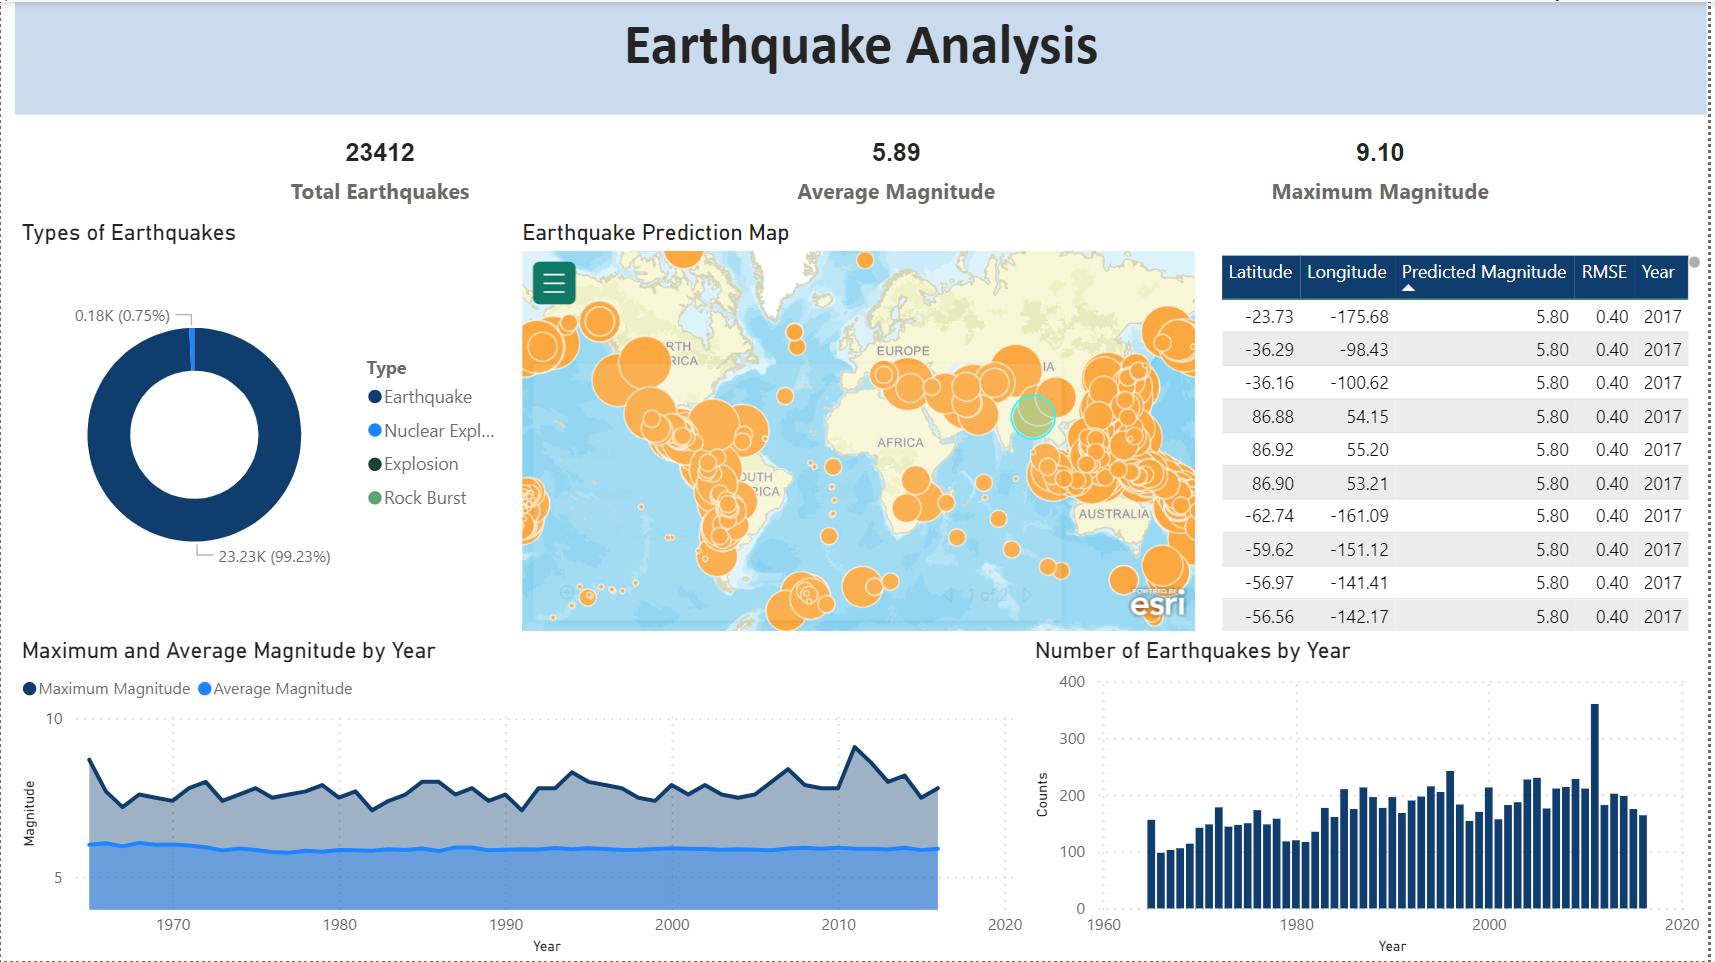

The dashboard page shown, as its layout file describes it:
{"tool":"powerbi","page":{"name":"Earthquake Summary","canvas":[1280,720],"ordinal":0},"visuals":[{"type":"textbox","box":[10.4,0,1269.4,84.7],"z":0},{"type":"esriVisual","title":"Earthquake Prediction Map","fields":{"Latitude":["pred_results.Latitude"],"Longitude":["pred_results.Longitude"],"Size":["Sum(pred_results.Pred_Magnitude)"]},"box":[386,162.8,514.6,313.8],"z":1000},{"type":"tableEx","fields":{"Values":["pred_results.Latitude","pred_results.Longitude","pred_results.Pred_Magnitude","pred_results.RMSE","pred_results.Year"]},"box":[909.8,185.1,370.2,291.5],"z":2000},{"type":"areaChart","title":"Maximum and Average Magnitude by Year","fields":{"Category":["quake_freq.Year"],"Y":["Sum(quake_freq.Max_Magnitude)","Sum(quake_freq.Avg_Magnitude)"]},"box":[10.5,476.6,760.1,242.9],"z":3000},{"type":"columnChart","title":"Number of Earthquakes by Year","fields":{"Category":["quake_freq.Year"],"Y":["Sum(quake_freq.Counts)"]},"box":[770.6,476.6,509.4,242.9],"z":4000},{"type":"donutChart","title":"Types of Earthquakes","fields":{"Category":["quakes.Type"],"Y":["CountNonNull(quakes.Type)"]},"box":[10.5,162.8,380.7,304.6],"z":5000},{"type":"card","fields":{"Values":["quakes.Count of Earthquake"]},"box":[200.9,85.3,166.7,77.5],"z":6000},{"type":"card","fields":{"Values":["quake_freq.Average mag"]},"box":[588.2,85.3,166.7,77.5],"z":7000},{"type":"card","fields":{"Values":["quake_freq.Maximum mag"]},"box":[941.3,85.3,186.4,77.5],"z":8000}]}

Visuals, with their boxes in screenshot pixels (x1, y1, x2, y2), scaled from the page's 1280x720 canvas onto the 1715x962 screenshot:
textbox: bbox(14, 0, 1714, 113)
"Earthquake Prediction Map" esriVisual: bbox(517, 218, 1207, 637)
tableEx - pred_results.Latitude x pred_results.Longitude: bbox(1219, 247, 1714, 637)
"Maximum and Average Magnitude by Year" areaChart: bbox(14, 637, 1032, 961)
"Number of Earthquakes by Year" columnChart: bbox(1032, 637, 1714, 961)
"Types of Earthquakes" donutChart: bbox(14, 218, 524, 624)
card - quakes.Count of Earthquake: bbox(269, 114, 493, 218)
card - quake_freq.Average mag: bbox(788, 114, 1011, 218)
card - quake_freq.Maximum mag: bbox(1261, 114, 1511, 218)
